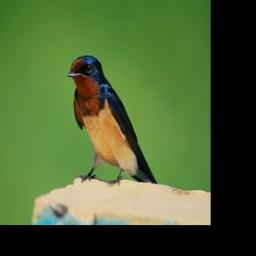Swallow: (67, 53, 159, 188)
